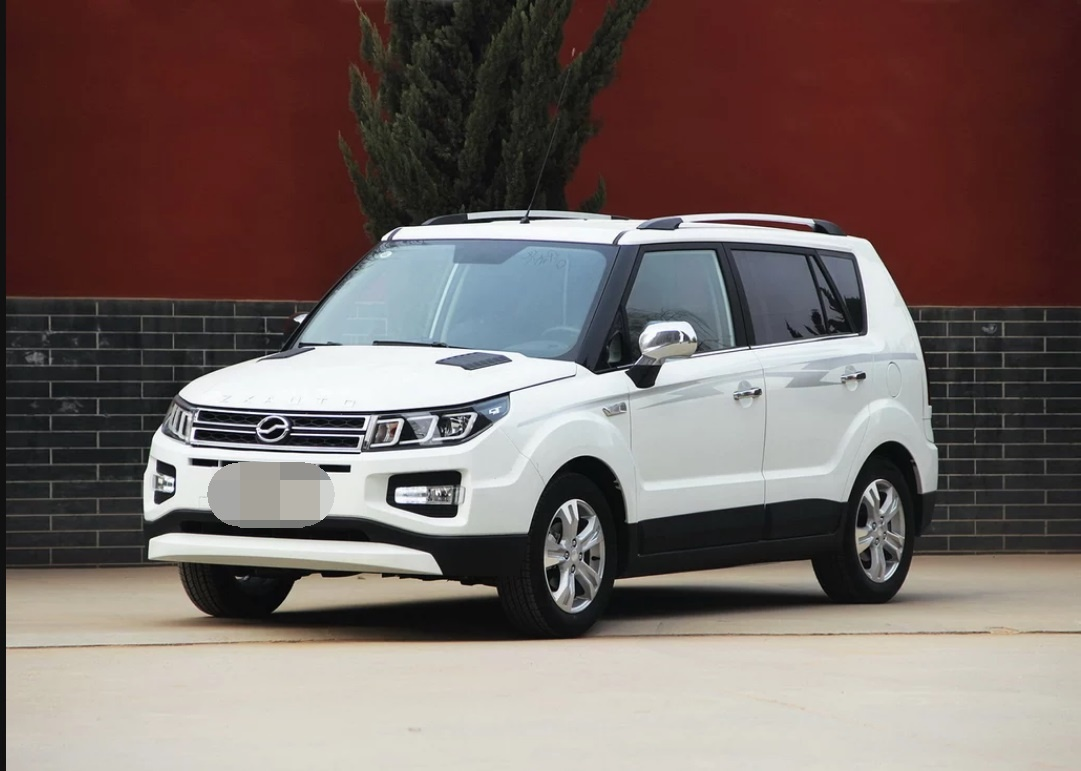SUV: (143, 192, 937, 618)
